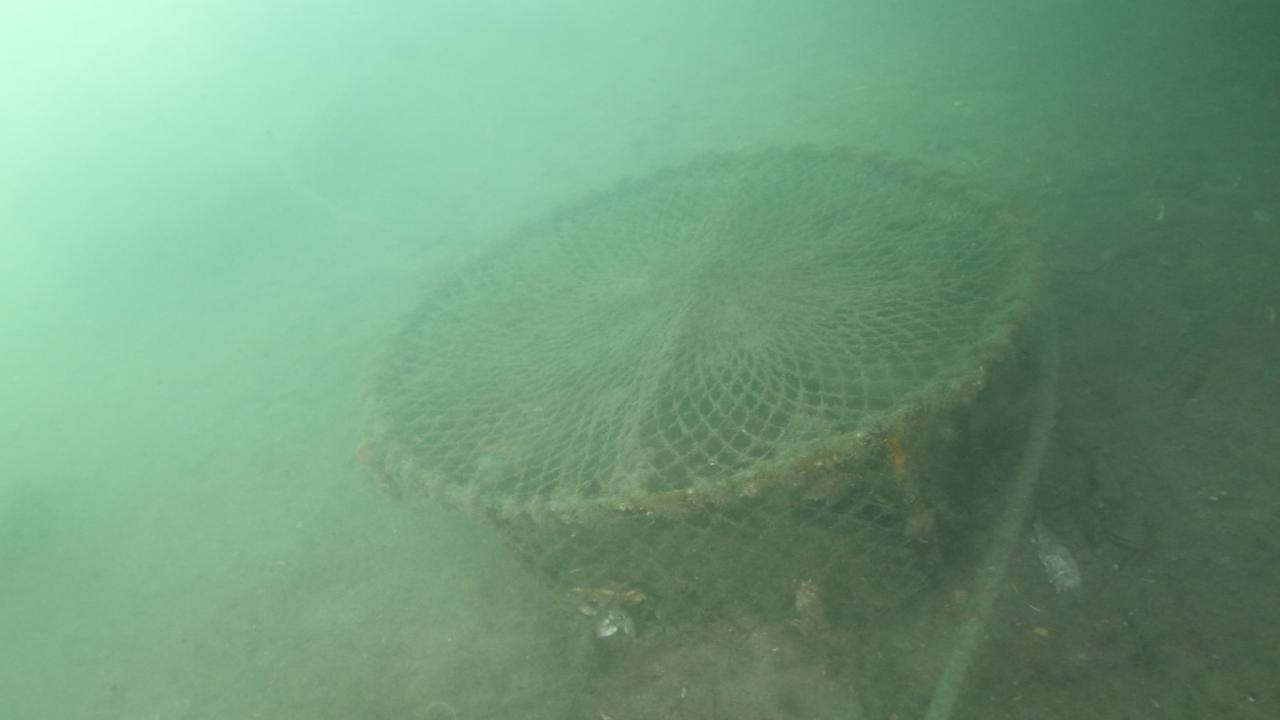circular fish trap: (354, 140, 1042, 627)
